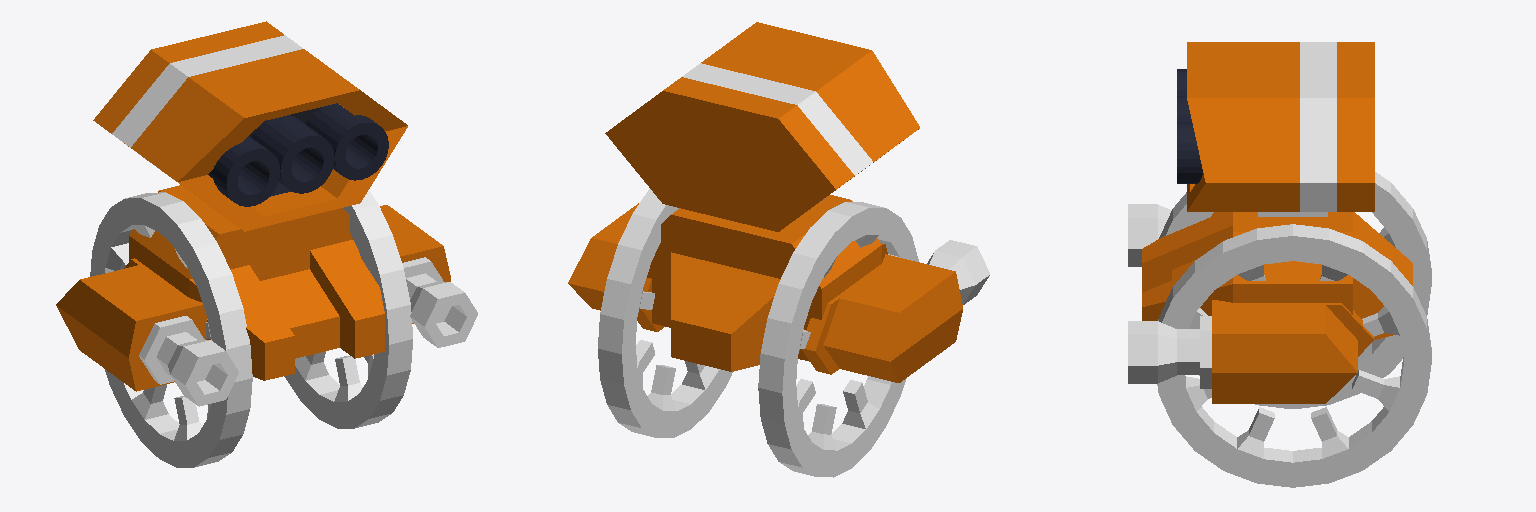
File: walking_02_05.obj
The picture shows the model from 3 angles: view 1: azimuth 30°, elevation 25°; view 2: azimuth 150°, elevation 25°; view 3: azimuth 270°, elevation 25°; orthographic projection.
Visible parts, largest first — view 1: mergedBlocks; view 2: mergedBlocks; view 3: mergedBlocks.
Boxes of the visible parts, <box> form: mergedBlocks: <box>56,21,477,467</box>; mergedBlocks: <box>568,22,989,477</box>; mergedBlocks: <box>1128,42,1431,487</box>.
Bounding box in the file's own units: 1.61 × 1.77 × 1.31.